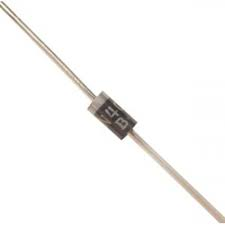diode: (61, 68, 176, 181)
